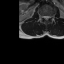CCS_normal: (45, 14, 47, 22)
LFS_normal: (49, 14, 52, 20)
LLS_normal: (47, 14, 49, 21)
RFS_normal: (41, 13, 43, 20)
RLS_normal: (43, 14, 45, 21)
